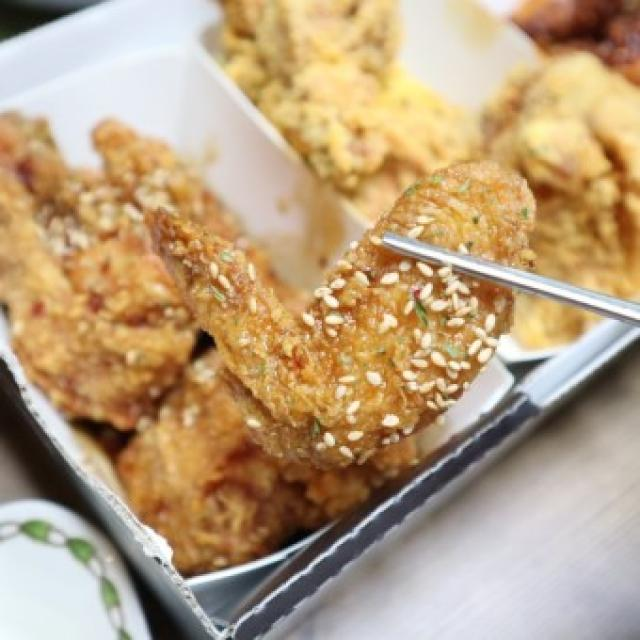Frango: (3, 100, 525, 619)
